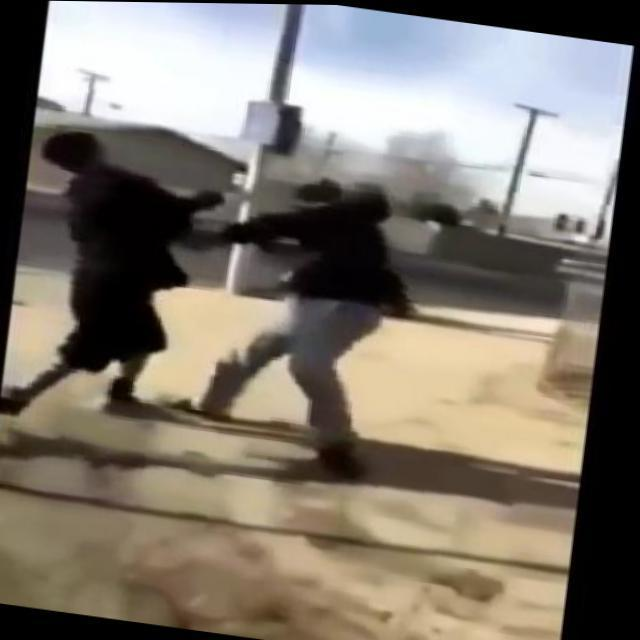fight: (0, 126, 425, 487)
